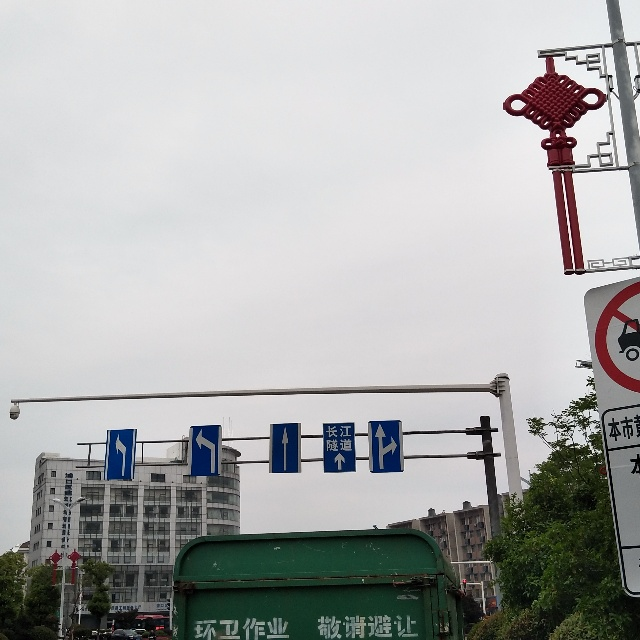left: (104, 426, 138, 485), (187, 422, 220, 479)
straight: (269, 417, 306, 476)
